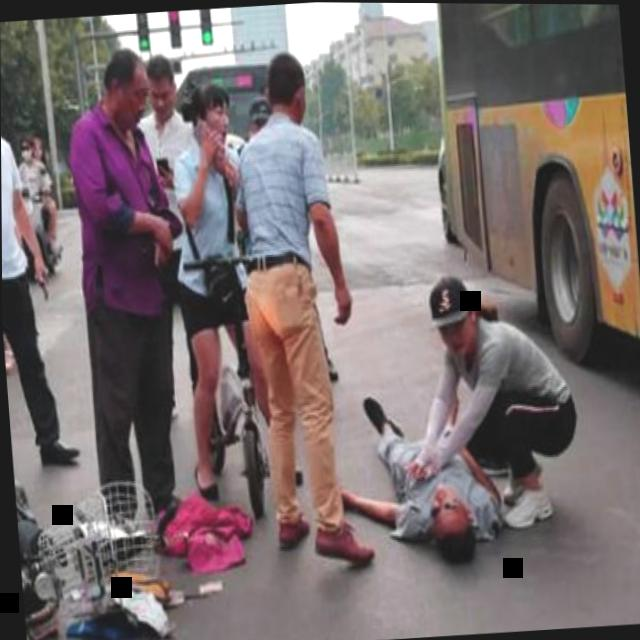Fall-Detected: (329, 375, 511, 569)
